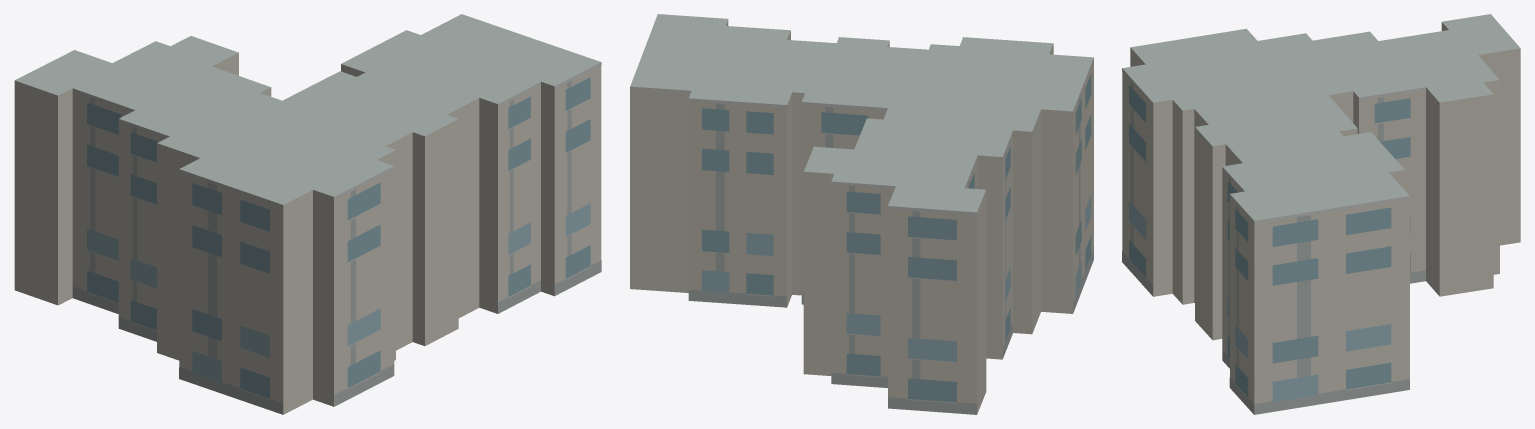
The model's file is residential-2631d9ae-de4a-459d-bf56-d93819679164.glb.
3 views of the same model, side by side, from view 1: azimuth 30°, elevation 25°; view 2: azimuth 150°, elevation 25°; view 3: azimuth 270°, elevation 25° (orthographic). The views are drawn at different scales.
Parts seen in each view (by area): view 1: residential-2631d9ae-de4a-459d-bf56-d93819679164.tmp; view 2: residential-2631d9ae-de4a-459d-bf56-d93819679164.tmp; view 3: residential-2631d9ae-de4a-459d-bf56-d93819679164.tmp.
Boxes of the visible parts, x1,y1,x2,y2 form: residential-2631d9ae-de4a-459d-bf56-d93819679164.tmp: (14,14,601,414); residential-2631d9ae-de4a-459d-bf56-d93819679164.tmp: (630,14,1093,414); residential-2631d9ae-de4a-459d-bf56-d93819679164.tmp: (1122,14,1520,414).
Bounding box in the file's own units: 34.9 × 15.25 × 28.41.
